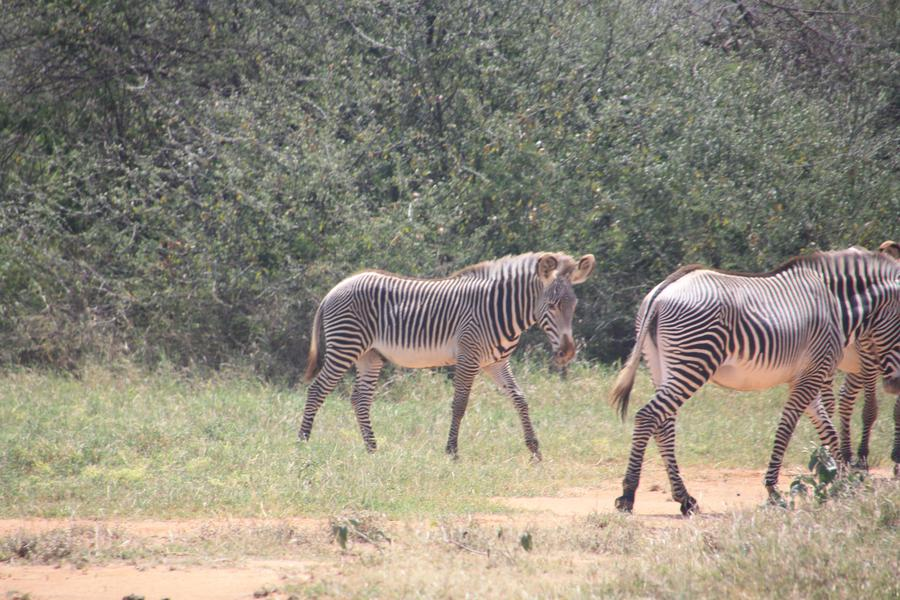zebra_grevys: (319, 260, 497, 359)
